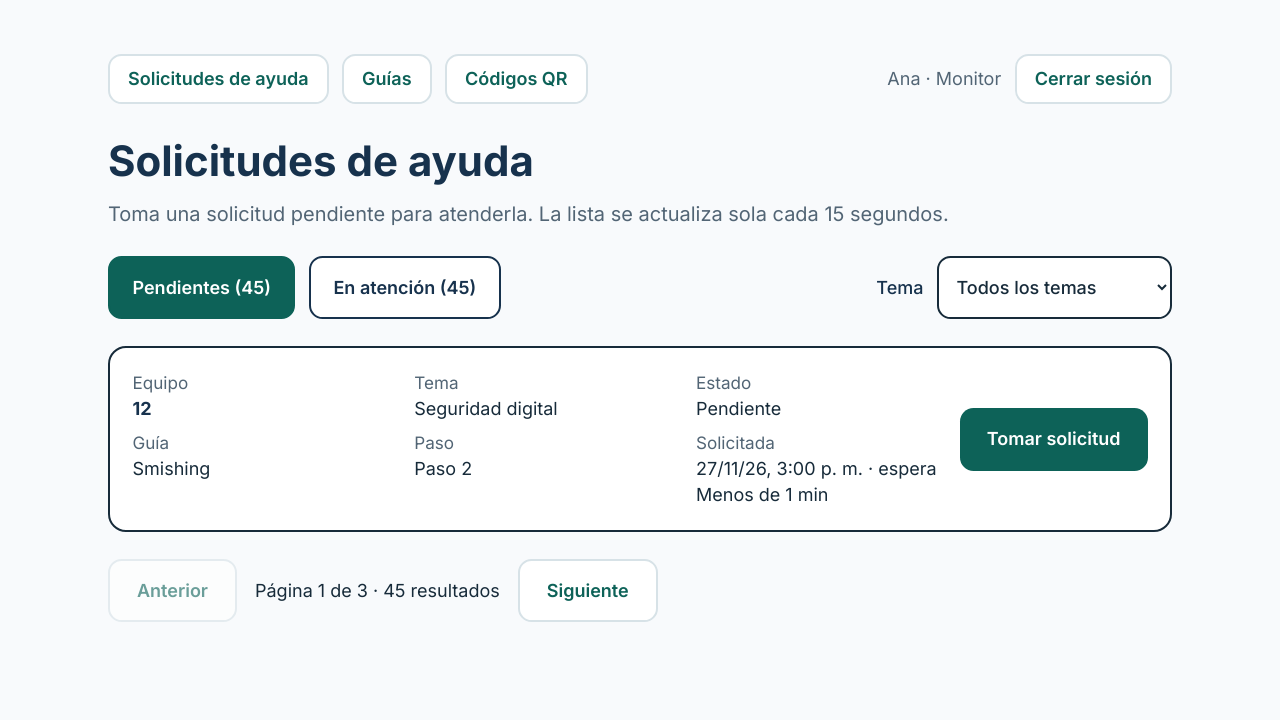
ColaSolicitudesPage › filtros y paginación (siempre contra la API) › cambiar de pestaña con página > 1 reinicia a la página 1
Expected: the text "Página 1 de 3 · 45 resultados" is shown, [255,578,500,604]
Click the button "Siguiente": {"x": 588, "y": 591} [518,559,658,622]
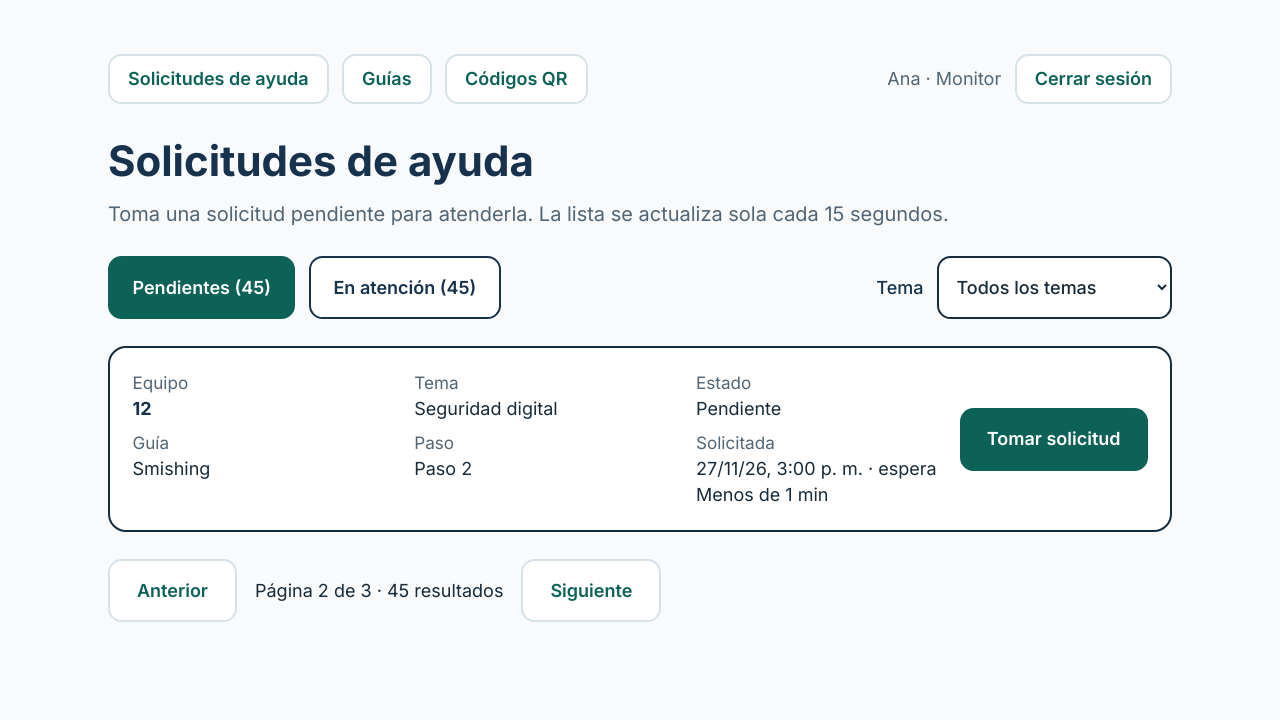
Result: the text "Página 2 de 3 · 45 resultados" is shown at [255,578,503,604]
Click the button "En atención (45)": {"x": 405, "y": 288} [309,256,501,319]
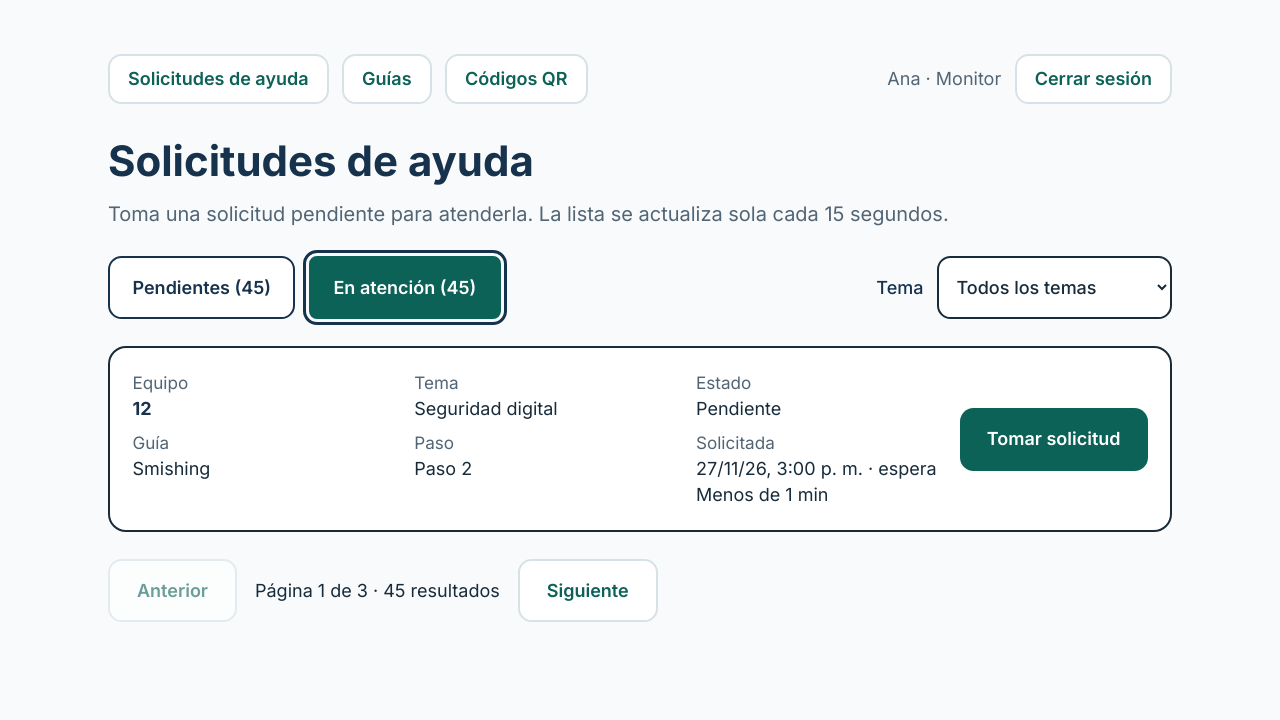
Result: the text "Página 1 de 3 · 45 resultados" is shown at [255,578,500,604]
